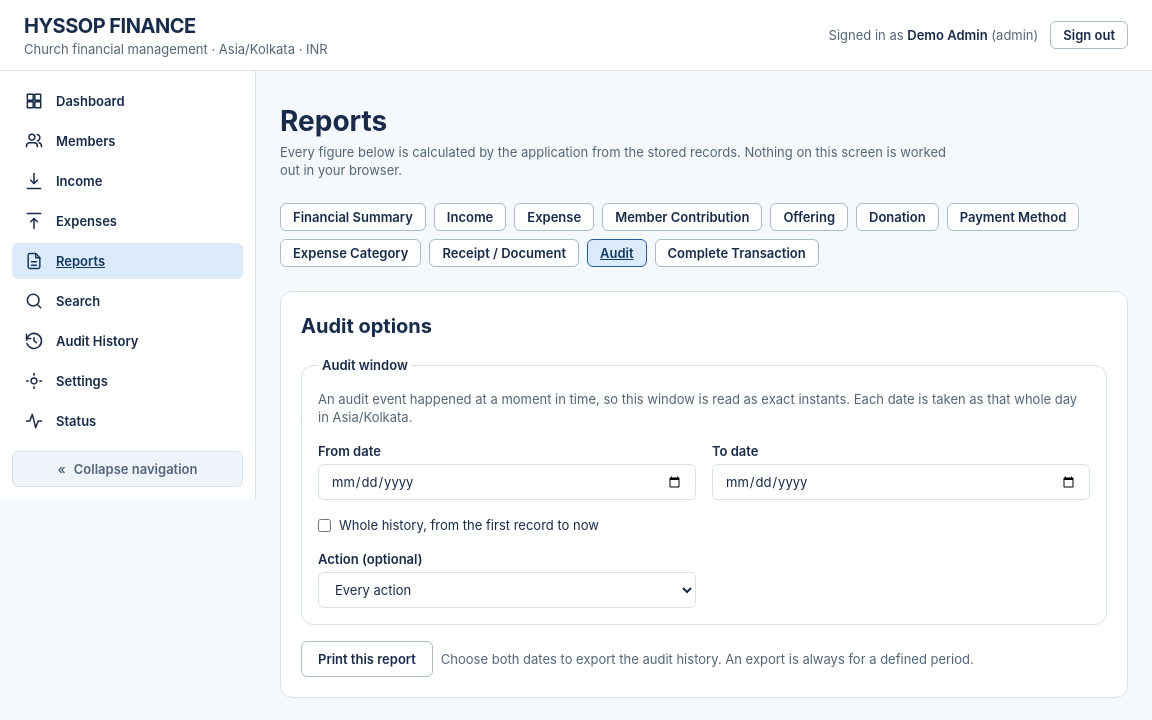
Test: the audit window › disables the date fields while the whole history is selected
Expected: the heading "Reports" is shown, [280,104,387,138]
Expected: the date field labelled "From date" is shown, [318,464,696,500]
What coordinates should you click on to do the following:
click the checkbox labelled "Whole history, from the first record to now"
I would click on:
 (324, 525)
Its box is [318,518,331,532].
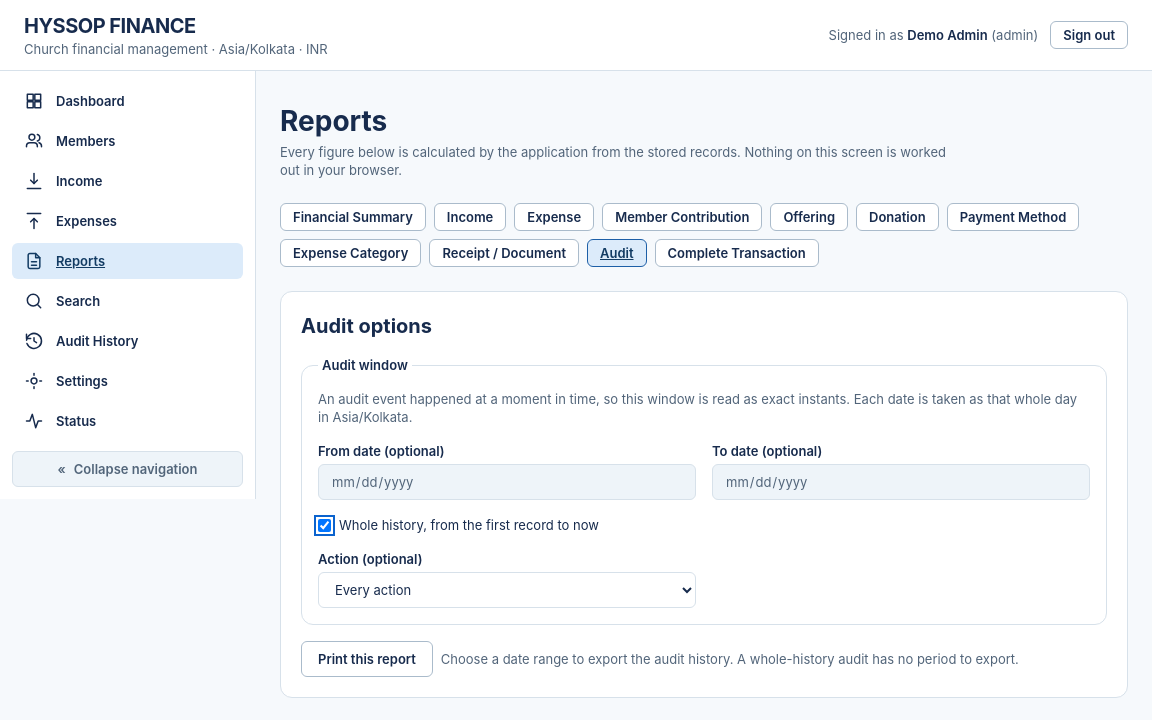
Expected: the date field labelled "From date (optional)" is disabled, [318,464,696,500]
Expected: the date field labelled "To date (optional)" is disabled, [712,464,1090,500]
